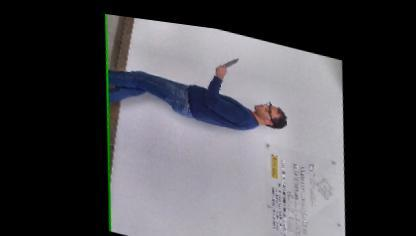knife: (214, 45, 239, 68)
